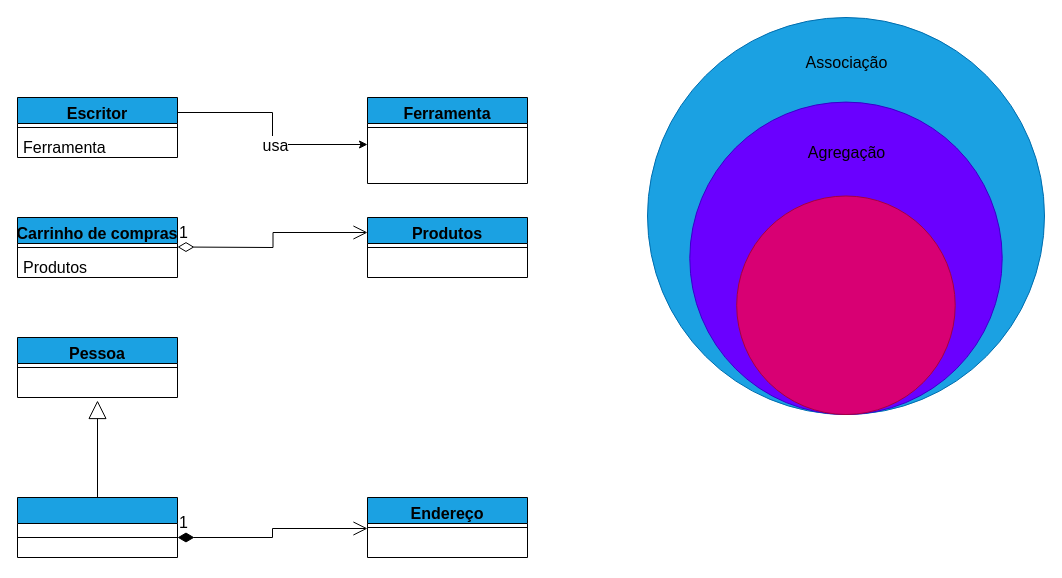
The diagram is 1062 pixels wide and 578 high, and some of its shapes have lost their labels. Each missing label, with the centre of its shape:
Clientes: pixel 97 527
Composição: pixel 845 304
